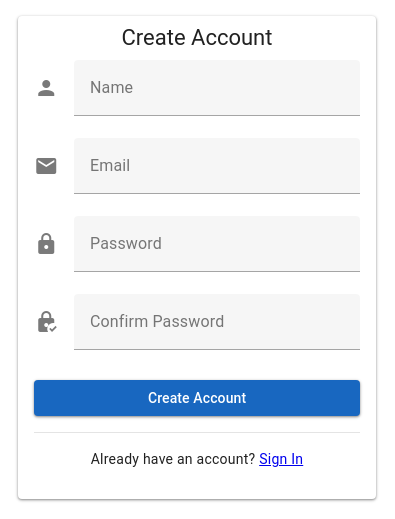
Test: RegisterView › shows error when passwords do not match
The width and height of the screenshot is (395, 519).
In the field labelled "Name": (217, 88) [74,60,360,116], type "John"
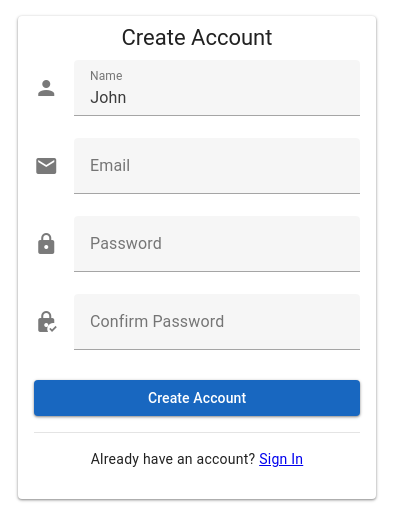
In the field labelled "Email": (217, 166) [74,138,360,194], type "john@example.com"
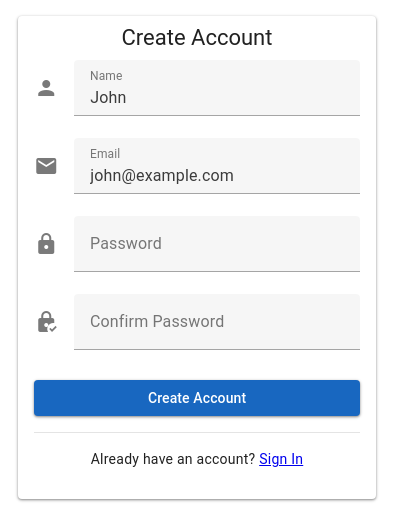
In the password field labelled "Password": (217, 244) [74,216,360,272], type "secret1"
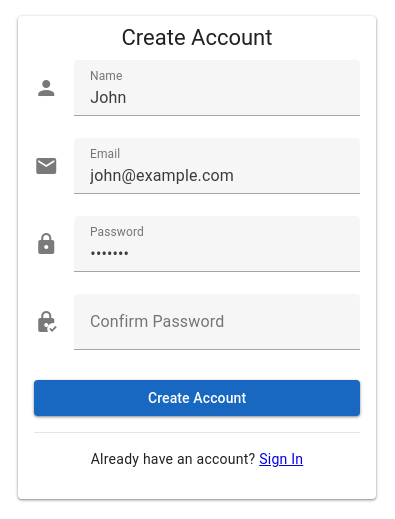
In the password field labelled "Confirm Password": (217, 322) [74,294,360,350], type "secret2"
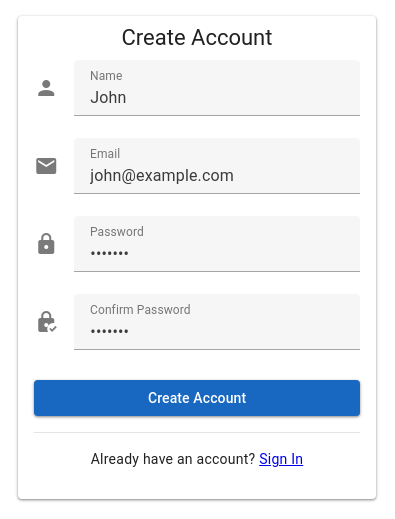
Submit the form, box [34,60,360,416]
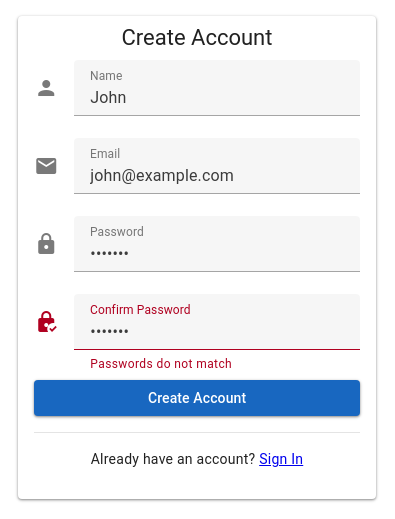
Now the text "Passwords do not match" is shown, box [90,357,232,371]
